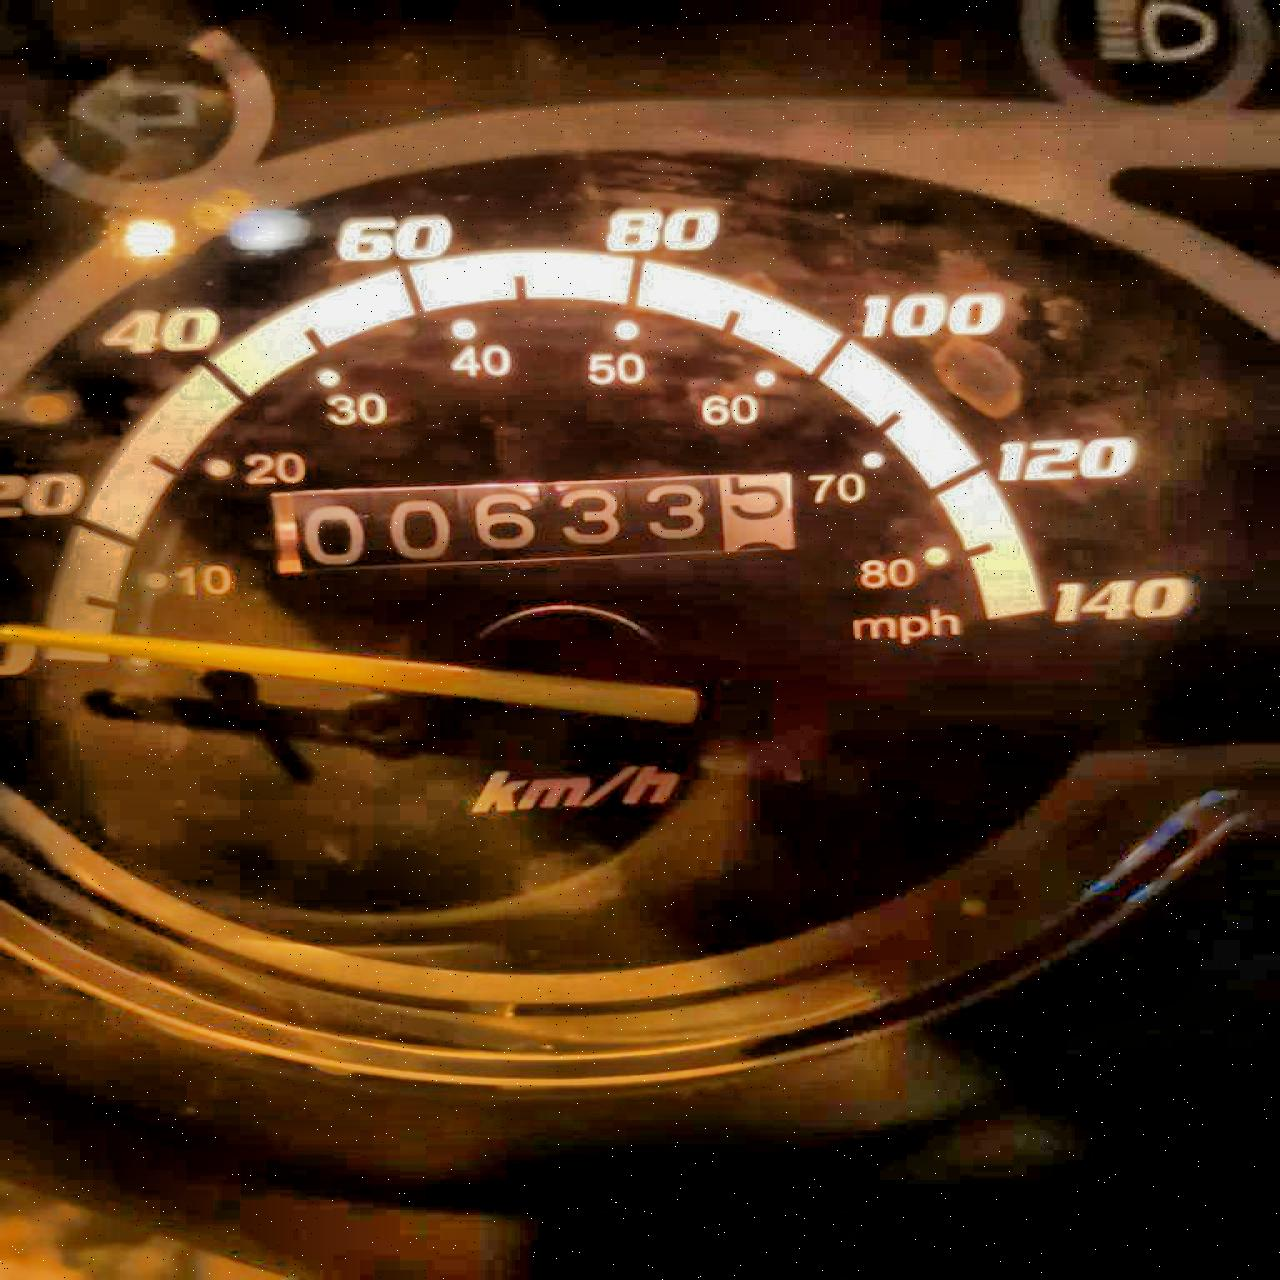0: (300, 502, 367, 567), (386, 496, 451, 563)
3: (553, 483, 621, 547), (641, 478, 708, 542)
5: (723, 471, 787, 520)
6: (470, 488, 538, 551)
odometer: (258, 469, 799, 578)
